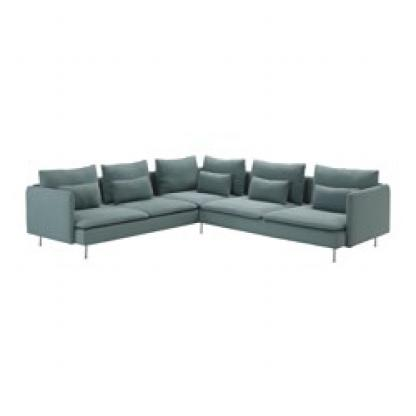Sofa: (15, 113, 398, 290)
